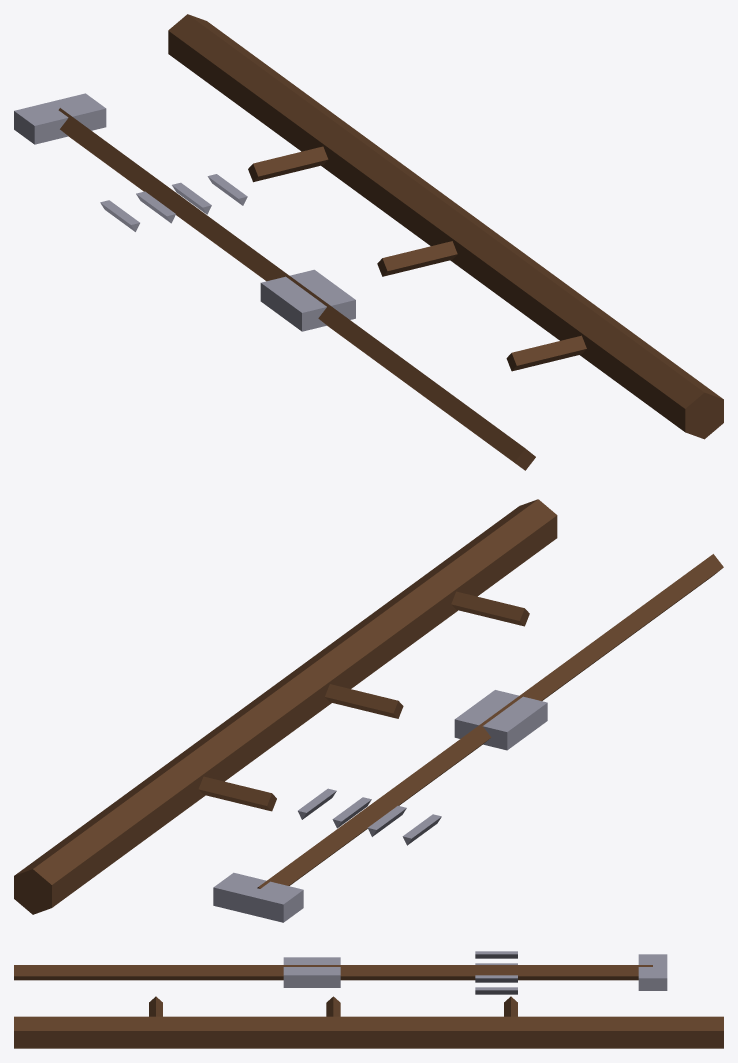
File: tool_rack.obj
3 views of the same model, one above another, from view 1: azimuth 30°, elevation 25°; view 2: azimuth 150°, elevation 25°; view 3: azimuth 270°, elevation 25° (orthographic). The views are drawn at different scales.
Parts seen in each view (by area): view 1: tool_rack; view 2: tool_rack; view 3: tool_rack.
Part boxes in pixels (x1,y1,x2,y2): tool_rack: (14, 14, 723, 470); tool_rack: (14, 499, 723, 922); tool_rack: (14, 951, 723, 1048).
Bounding box in the file's own units: 0.2868 × 0.05 × 1.
